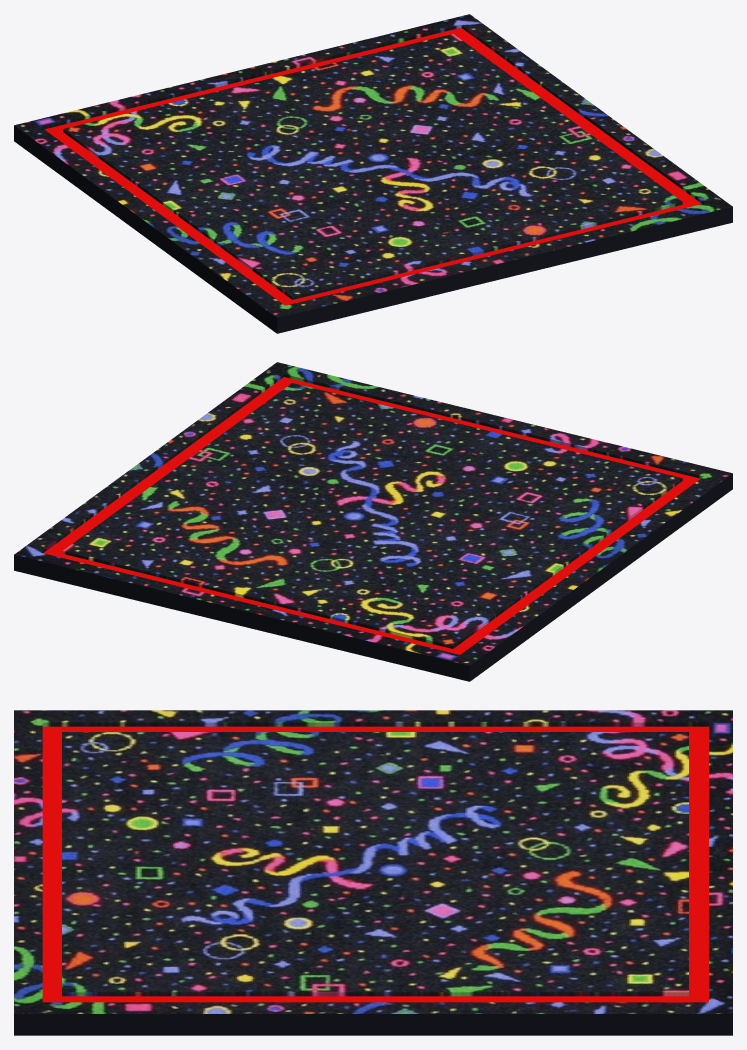
The model's file is floorRed.fbx.
The picture shows the model from 3 angles, top to bottom: view 1: azimuth 30°, elevation 25°; view 2: azimuth 150°, elevation 25°; view 3: azimuth 270°, elevation 25°; orthographic projection. The views are drawn at different scales.
Parts seen in each view (by area): view 1: pCube1; view 2: pCube1; view 3: pCube1.
Part boxes in pixels (bbox=[...]): pCube1: bbox=[14, 14, 732, 333]; pCube1: bbox=[14, 362, 732, 681]; pCube1: bbox=[14, 710, 732, 1035].
Bounding box in the file's own units: 3 × 0.1 × 3.
Materials: 2 (1 with a texture image).
